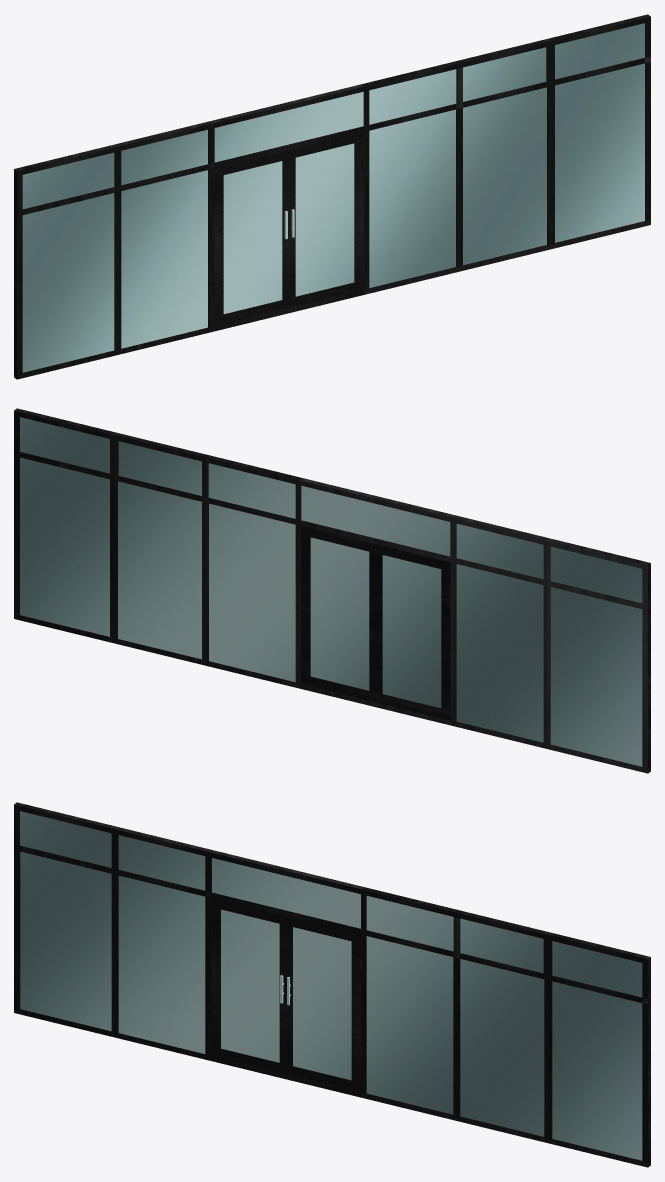
Rendered from tavern_glass_door_wall_long.fbx.
The picture shows the model from 3 angles, top to bottom: view 1: azimuth 30°, elevation 25°; view 2: azimuth 150°, elevation 25°; view 3: azimuth 330°, elevation 25°; orthographic projection.
Parts seen in each view (by area): view 1: tavern_glass_door_wall_long; view 2: tavern_glass_door_wall_long; view 3: tavern_glass_door_wall_long.
Part boxes in pixels (x1,y1,x2,y2): tavern_glass_door_wall_long: (14,14,650,379); tavern_glass_door_wall_long: (14,408,650,773); tavern_glass_door_wall_long: (14,802,650,1167).
Bounding box in the file's own units: 8.23 × 2.59 × 0.0972.
1 material, 1 textured.
